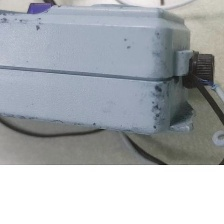three_eye_plug: (0, 0, 220, 139)
